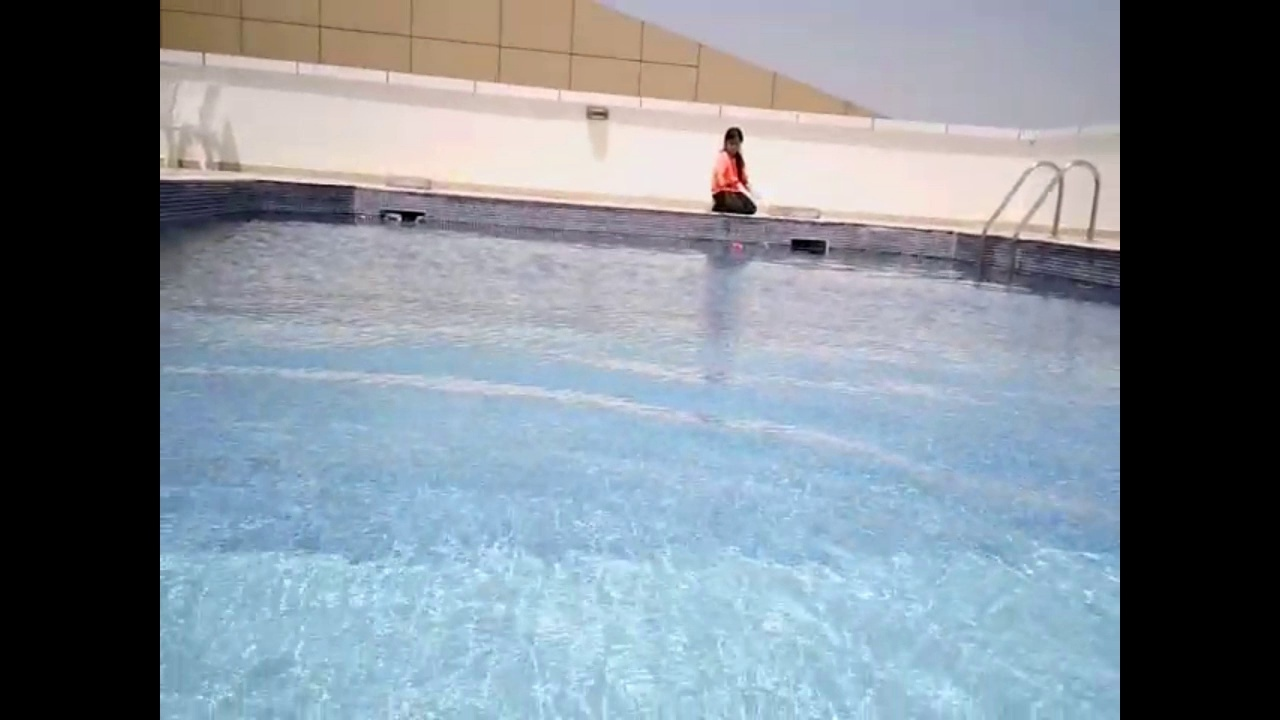debris: (381, 207, 406, 229), (412, 211, 430, 228), (727, 239, 747, 254), (352, 211, 367, 225)
